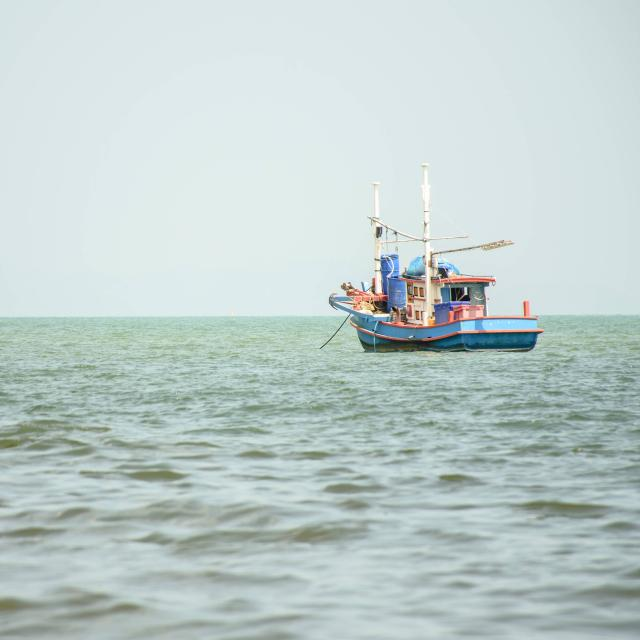Fishing Boat: (201, 130, 617, 352)
